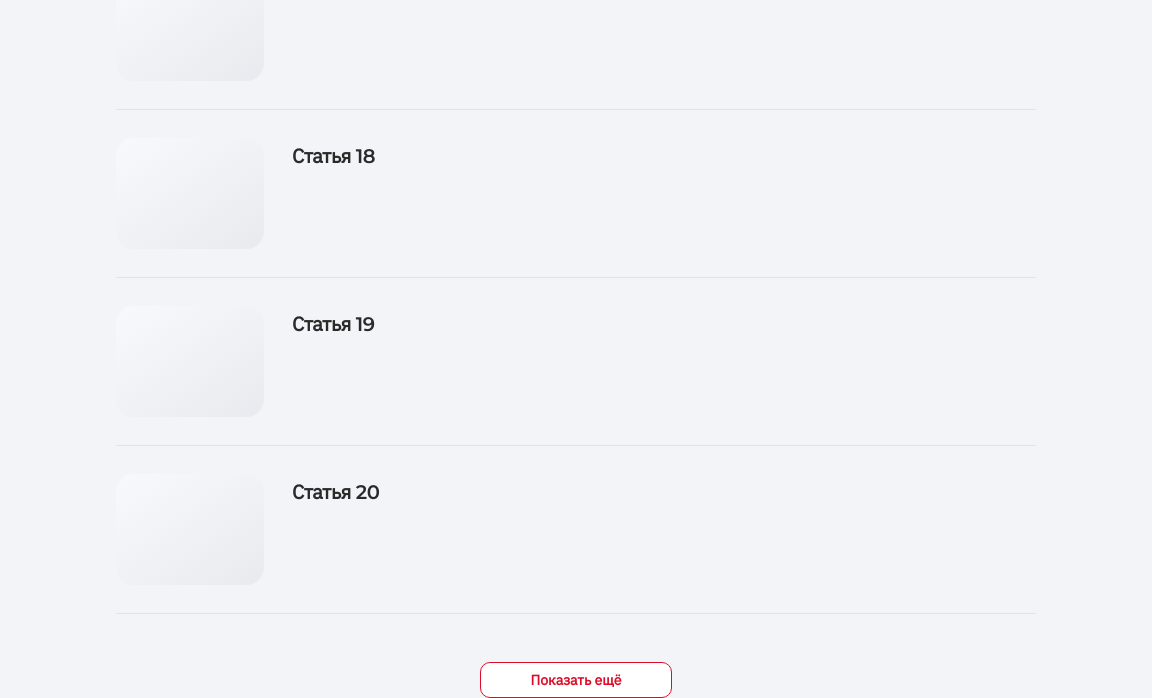
Test: ArticlesListPage › reaches the 21st article via «Показать ещё»
(page scrolled)
Expected: the text "Статья 21" is not shown
What coordinates should you click on to do the following:
click the button "Показать ещё"
I would click on:
 (576, 680)
Its box is [480,662,672,697].
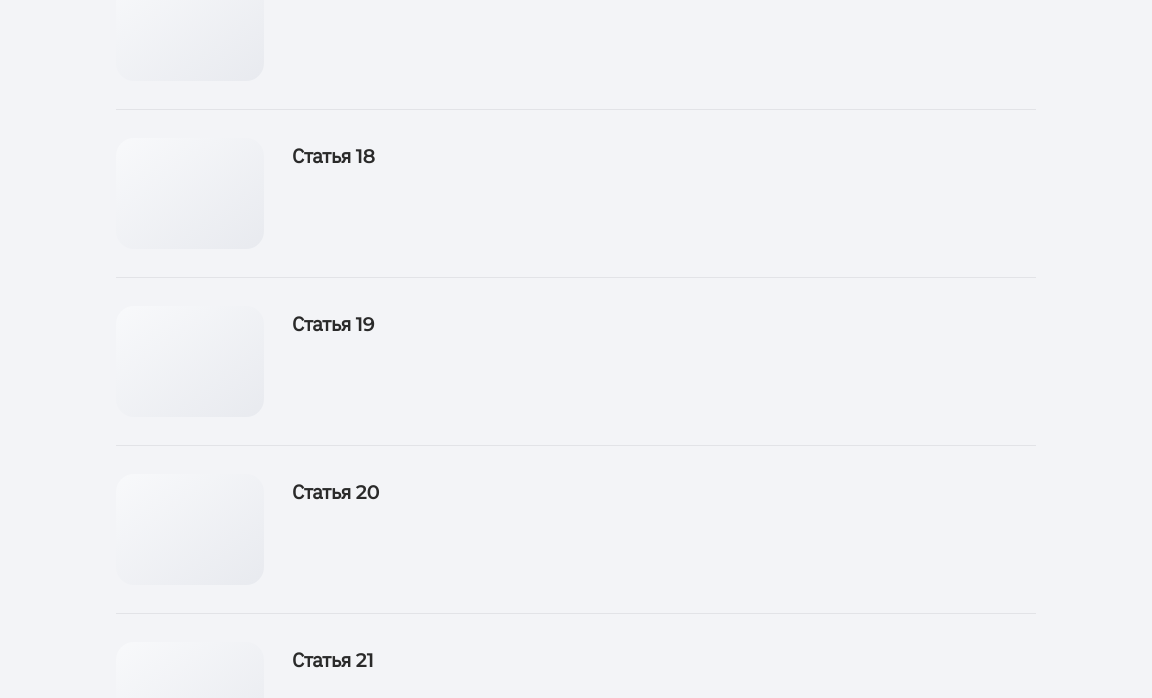
Expected: the text "Статья 21" is shown, [292,648,374,672]
Expected: the text "Показать ещё" is gone
